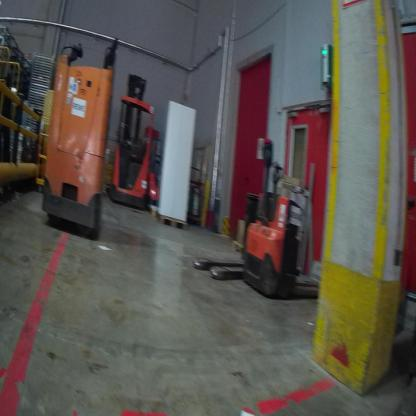forklift: (107, 62, 156, 222)
pallet: (155, 208, 192, 232)
pallet_truck: (36, 31, 120, 258), (228, 128, 332, 303), (187, 152, 292, 287)
